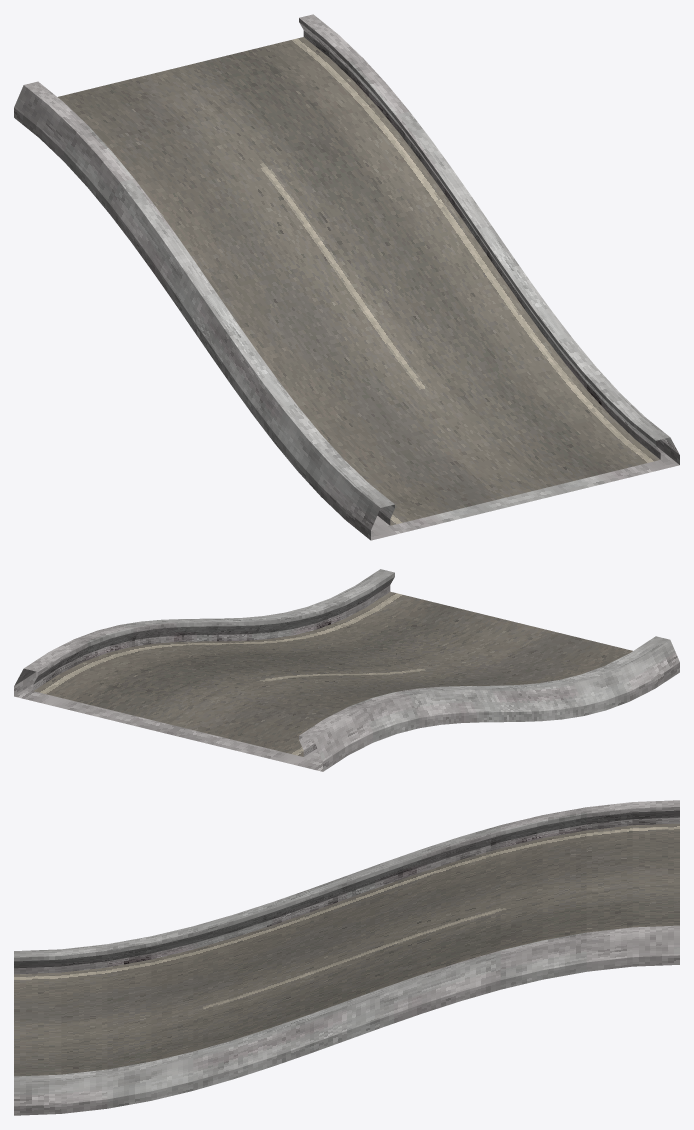
The model's file is road-Straight-Flat-Flat-Up2-Center-Size2.glb.
3 views of the same model, one above another, from view 1: azimuth 30°, elevation 25°; view 2: azimuth 150°, elevation 25°; view 3: azimuth 270°, elevation 25° (orthographic). The views are drawn at different scales.
Parts seen in each view (by area): view 1: road-Straight-Flat-Flat-Up2-Center-Size2; view 2: road-Straight-Flat-Flat-Up2-Center-Size2; view 3: road-Straight-Flat-Flat-Up2-Center-Size2.
Part boxes in pixels (x1,y1,x2,y2): road-Straight-Flat-Flat-Up2-Center-Size2: (14,14,679,540); road-Straight-Flat-Flat-Up2-Center-Size2: (14,569,679,771); road-Straight-Flat-Flat-Up2-Center-Size2: (14,800,679,1115).
Size of the model in its own units: 1 by 0.5938 by 2.
Materials: 2 (2 with a texture image).
